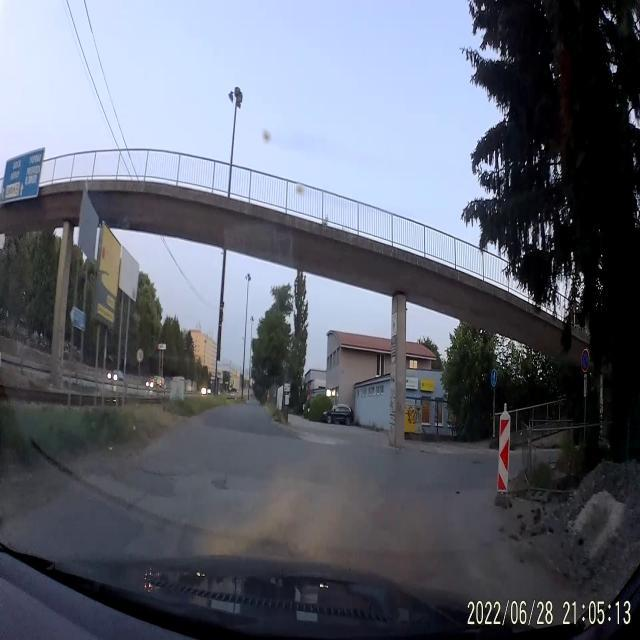Pothole: (140, 468, 179, 498), (213, 472, 228, 491)
